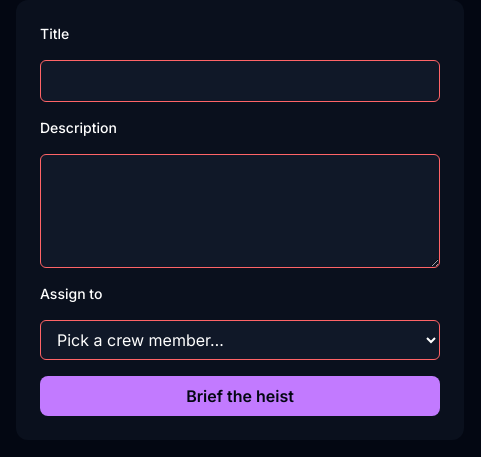
CreateHeistForm › disables the submit button while the create request is in flight
The image size is (481, 457).
Type "Operation Stapler" into the field labelled "Title" at (240, 81), box [40,60,440,102]
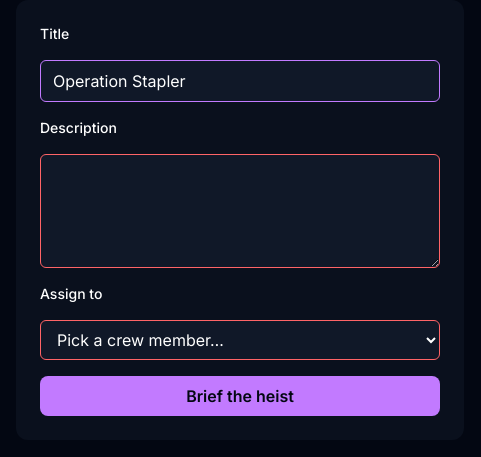
Type "Liberate one Swingline from the third-floor cubicle." into the text box labelled "Description" at (240, 211), box [40,154,440,268]
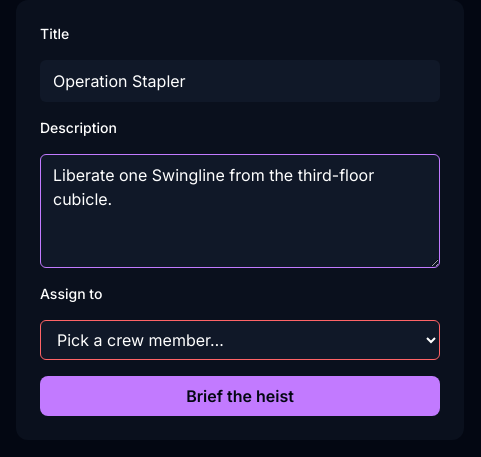
Select "BoldAzureBadger" in the dropdown labelled "Assign to" at (240, 340), box [40,320,440,360]
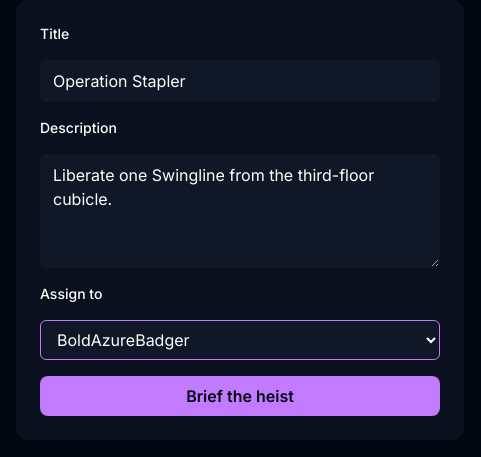
Click the button "Brief the heist" at (240, 396), box [40,376,440,416]
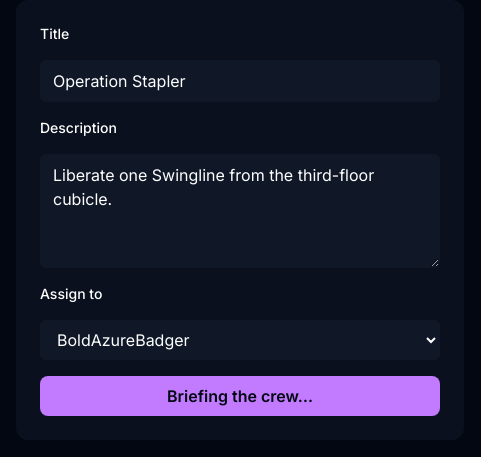
Now the button "Briefing the crew…" is disabled, box [40,376,440,416]
